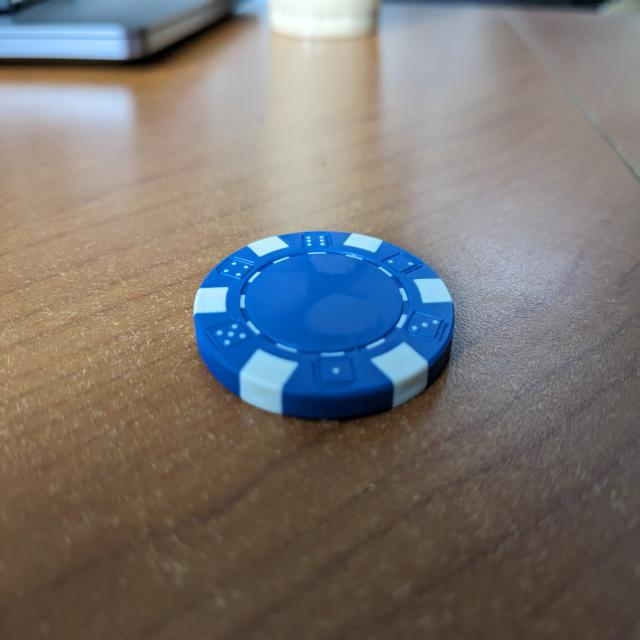blue chip: (191, 231, 455, 423)
